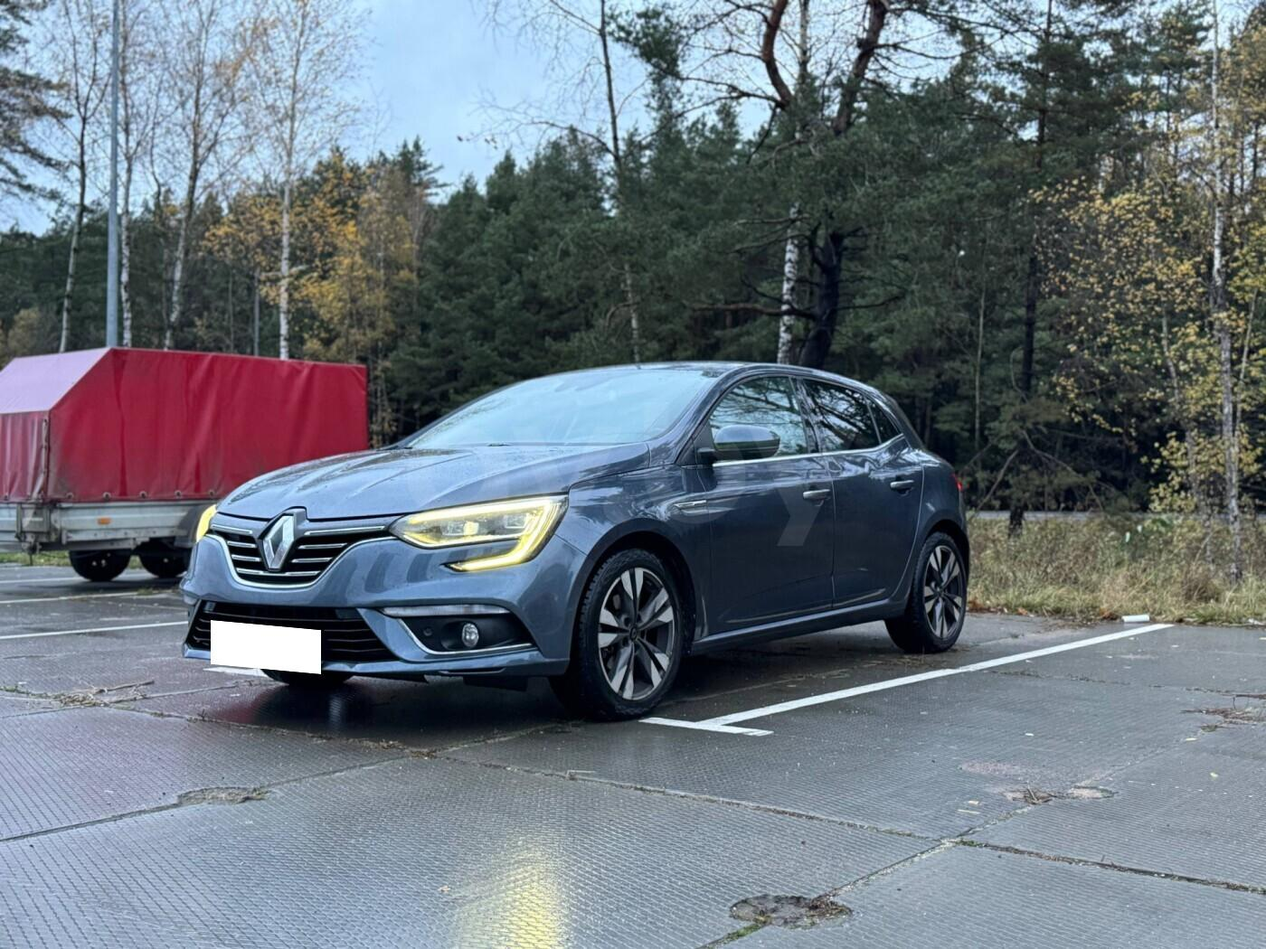Megane_2016-2020: (168, 349, 983, 720)
